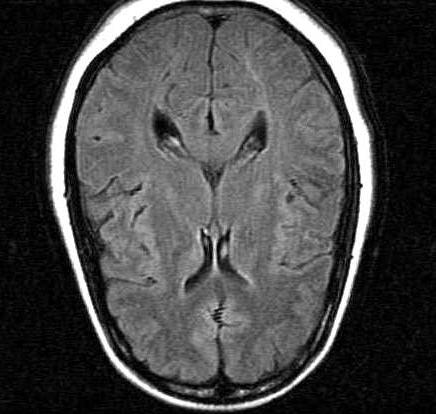Normal_Brain: (1, 2, 425, 414)
